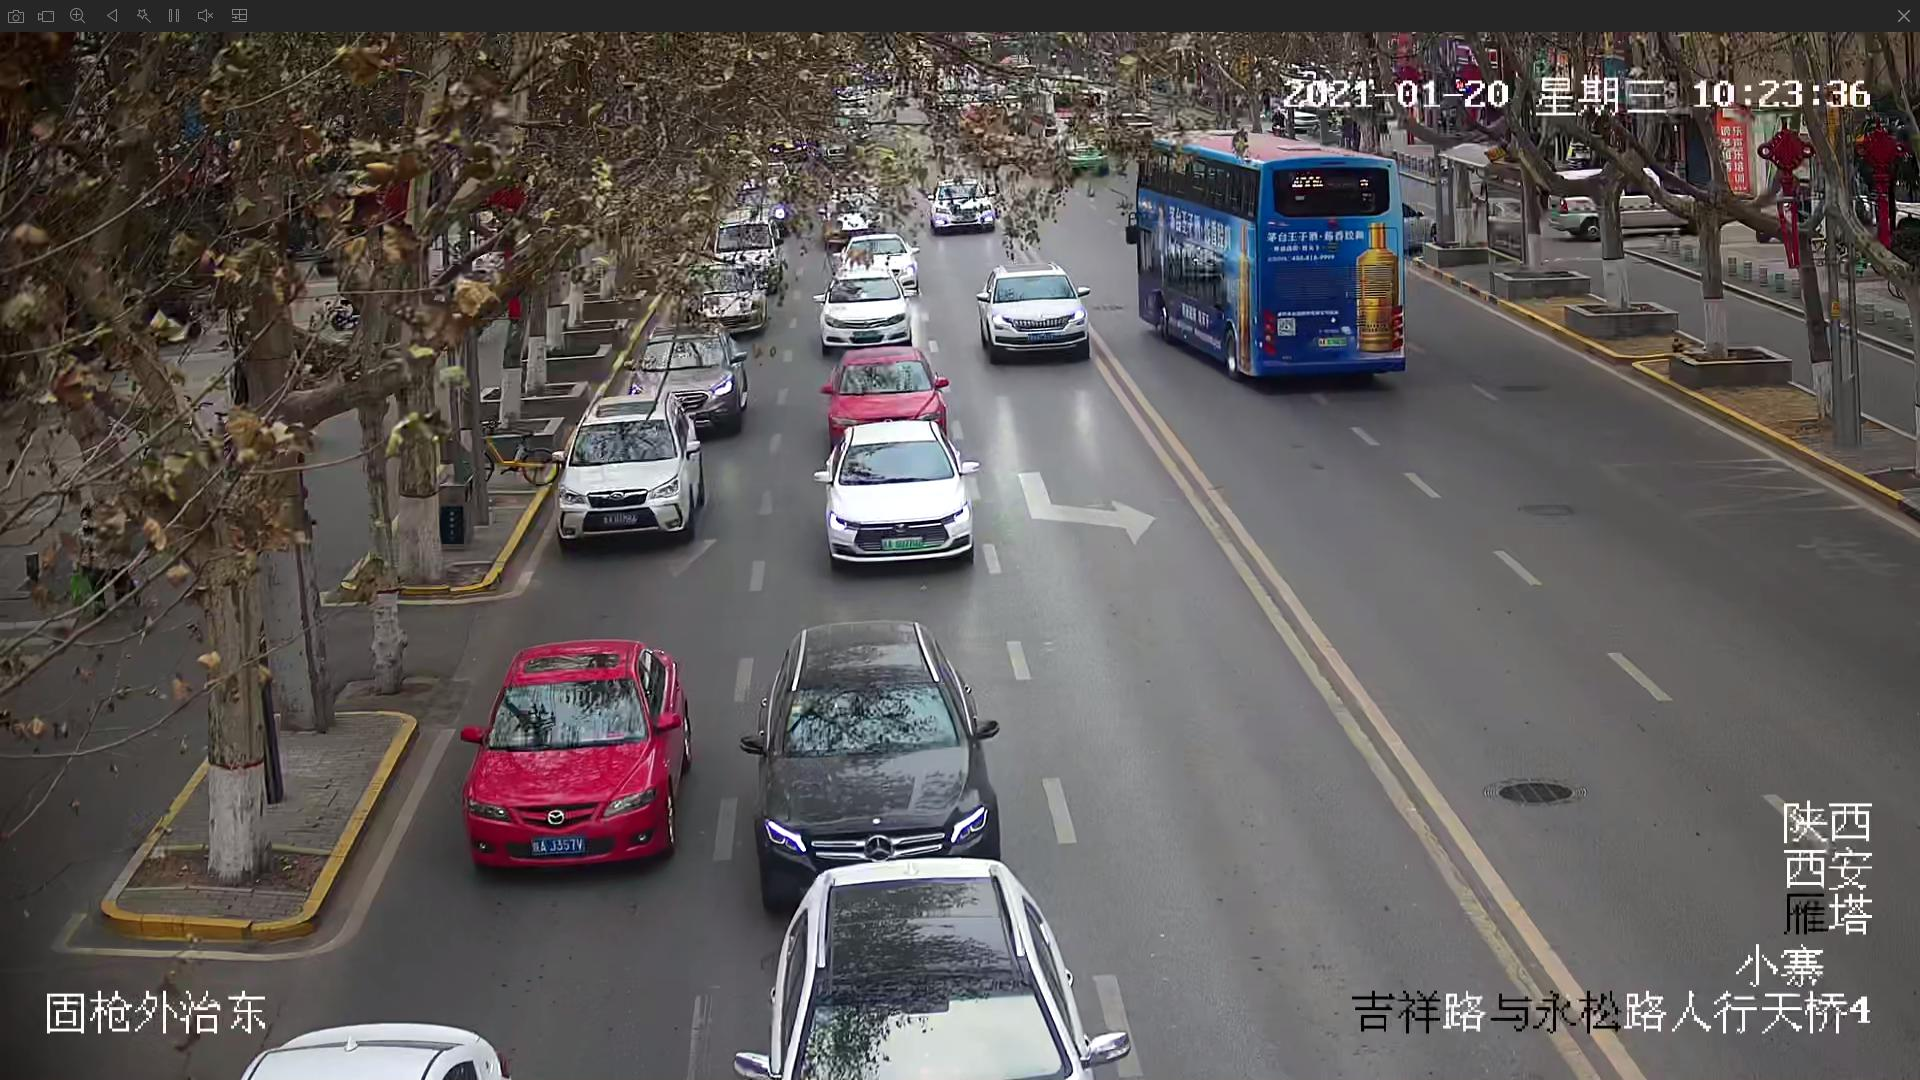black: (753, 624, 1007, 877)
red: (476, 634, 686, 870)
white: (819, 417, 976, 572)
